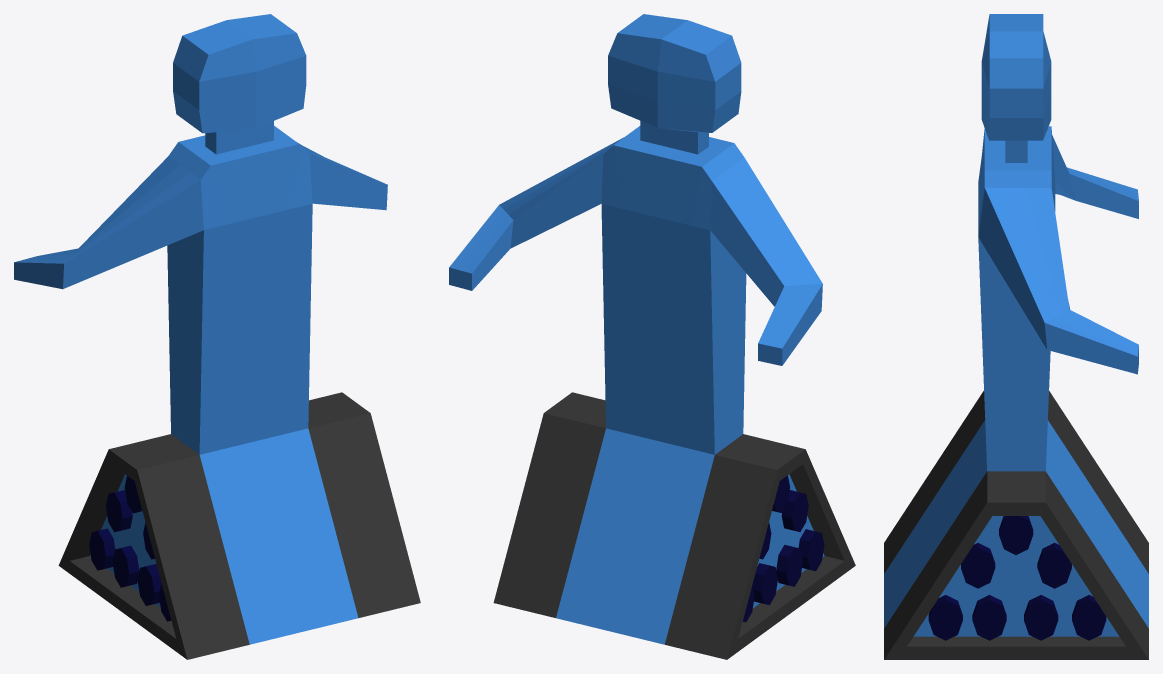
The model's file is Meeple.fbx.
The picture shows the model from 3 angles, left to right: view 1: azimuth 30°, elevation 25°; view 2: azimuth 150°, elevation 25°; view 3: azimuth 270°, elevation 25°; orthographic projection. The views are drawn at different scales.
Visible parts, largest first — view 1: Cube; view 2: Cube; view 3: Cube.
Part boxes in pixels (x1,y1,x2,y2): Cube: [14, 14, 420, 659]; Cube: [449, 14, 855, 659]; Cube: [884, 14, 1148, 659].
Bounding box in the file's own units: 228 × 362 × 153.
